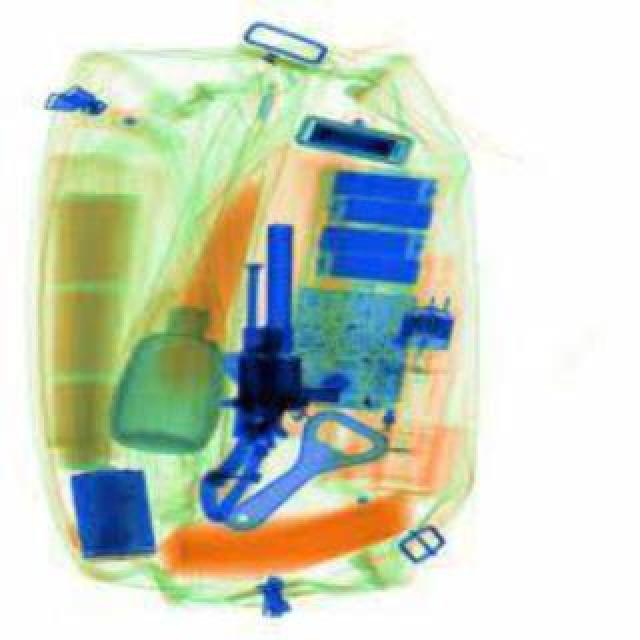gun: (194, 220, 338, 520)
